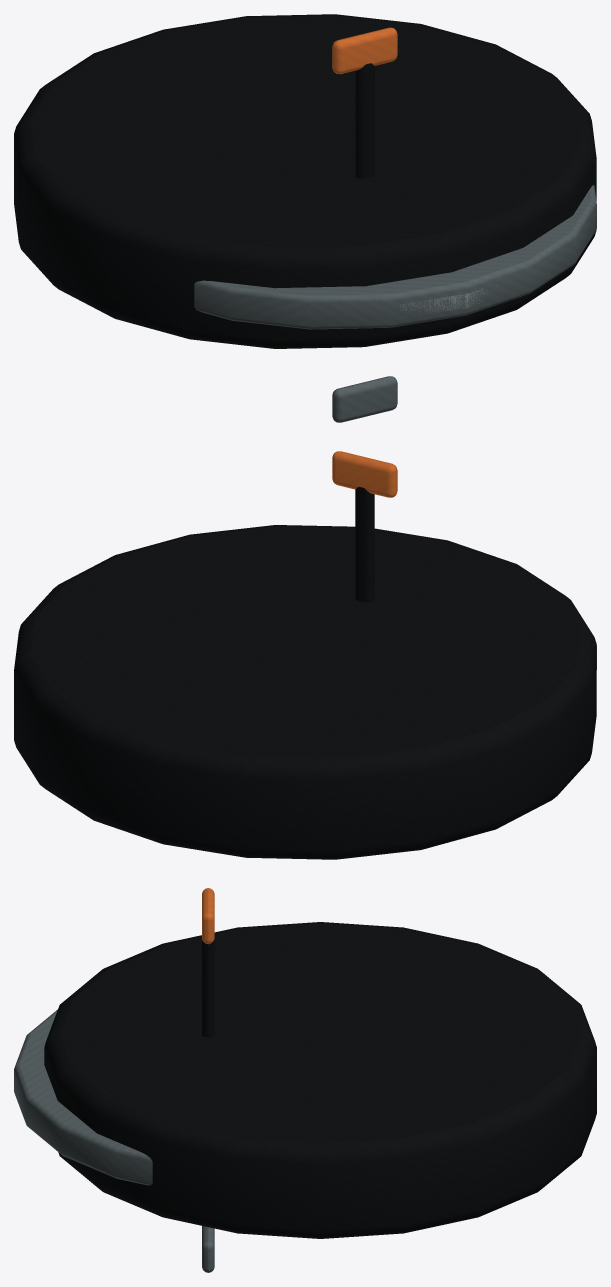
File: WallClock.glb
The picture shows the model from 3 angles, top to bottom: view 1: azimuth 30°, elevation 25°; view 2: azimuth 150°, elevation 25°; view 3: azimuth 270°, elevation 25°; orthographic projection. The views are drawn at different scales.
Parts seen in each view (by area): view 1: WallClock_Mesh; view 2: WallClock_Mesh; view 3: WallClock_Mesh.
Part boxes in pixels (x1,y1,x2,y2): WallClock_Mesh: (14, 14, 596, 422); WallClock_Mesh: (14, 451, 596, 859); WallClock_Mesh: (14, 888, 596, 1272).
Size of the model in its own units: 0.64 by 0.46 by 0.675.
Materials: 4 (4 with a texture image).
